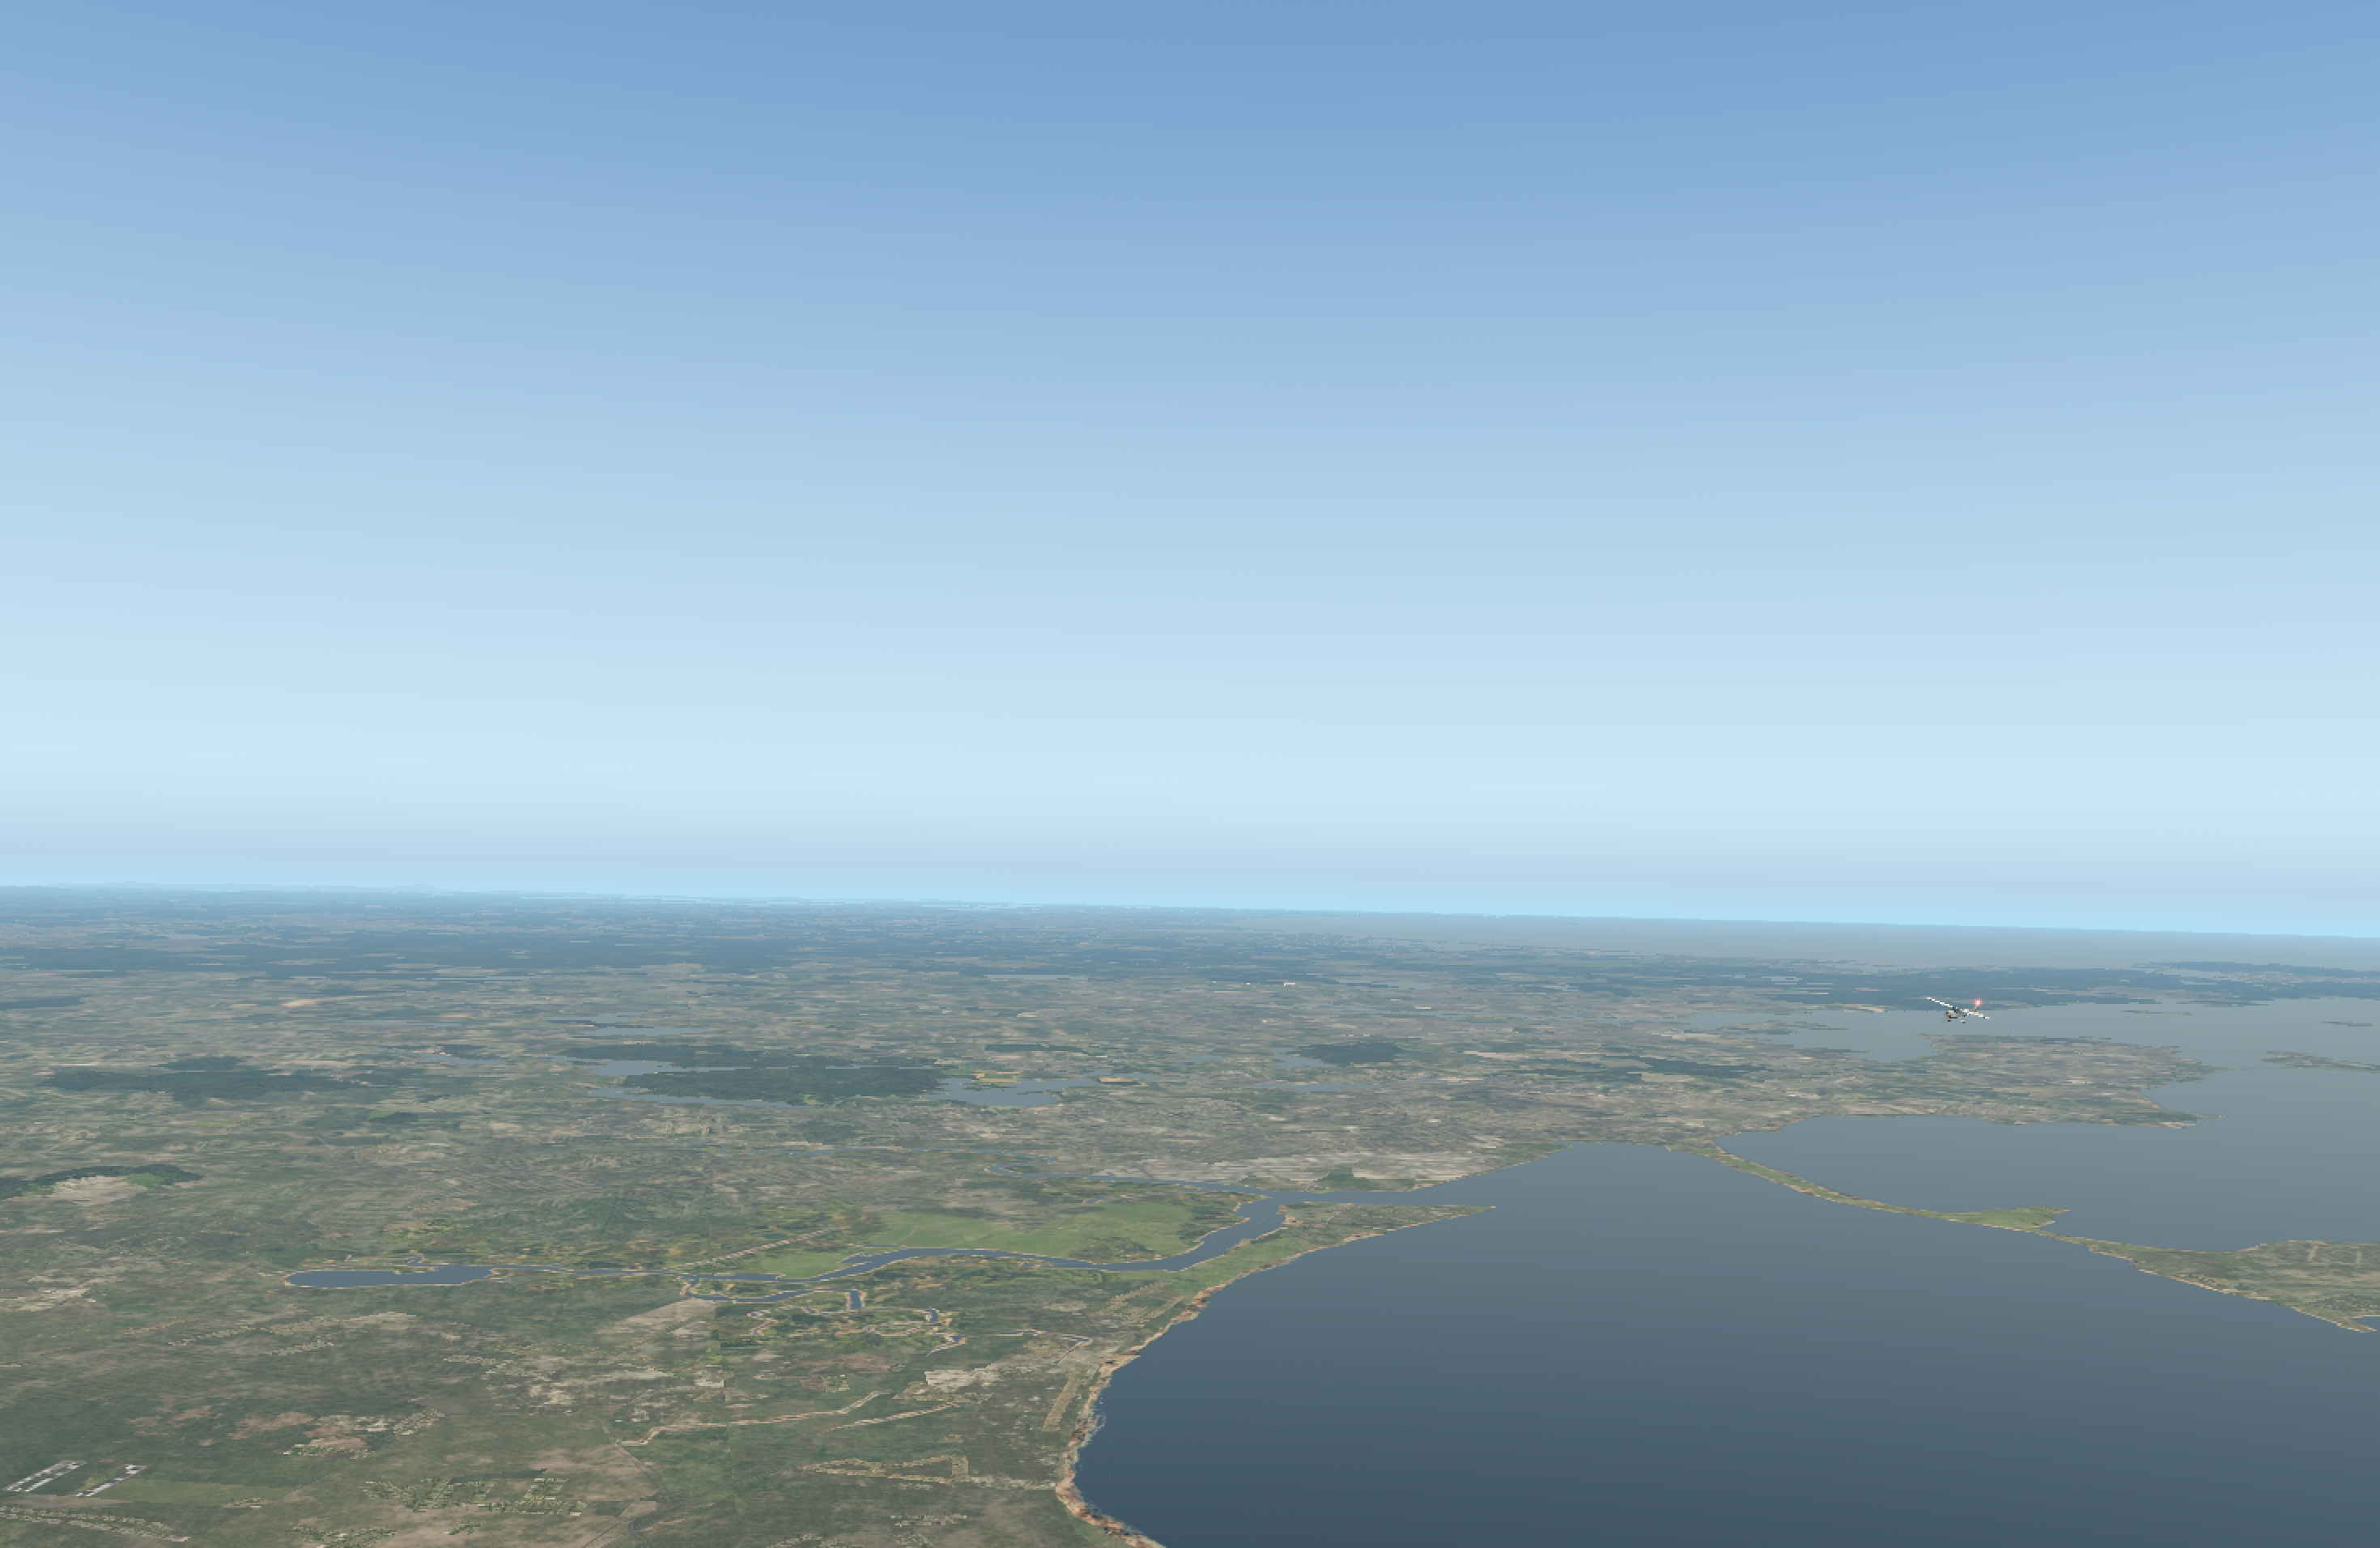aircraft: (1932, 1003, 1981, 1022)
